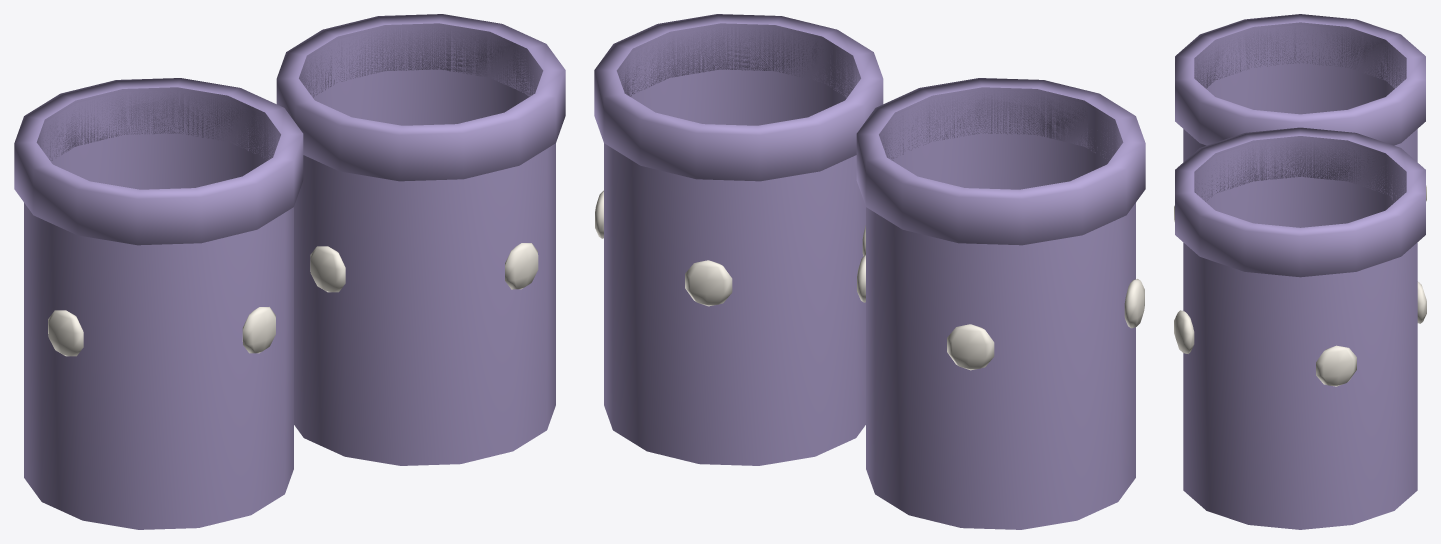
The model's file is dotted_knee_high_socks.glb.
3 views of the same model, side by side, from view 1: azimuth 30°, elevation 25°; view 2: azimuth 150°, elevation 25°; view 3: azimuth 270°, elevation 25° (orthographic). The views are drawn at different scales.
Visible parts, largest first — view 1: dotted_knee_high_socks_LegL, dotted_knee_high_socks_LegR; view 2: dotted_knee_high_socks_LegL, dotted_knee_high_socks_LegR; view 3: dotted_knee_high_socks_LegR, dotted_knee_high_socks_LegL.
Boxes of the visible parts, x1,y1,x2,y2 form: dotted_knee_high_socks_LegL: [14, 78, 303, 529]; dotted_knee_high_socks_LegR: [276, 14, 565, 465]; dotted_knee_high_socks_LegL: [856, 78, 1145, 529]; dotted_knee_high_socks_LegR: [594, 14, 883, 465]; dotted_knee_high_socks_LegR: [1174, 127, 1426, 529]; dotted_knee_high_socks_LegL: [1174, 14, 1426, 221].
Bounding box in the file's own units: 0.372 × 0.232 × 0.1789.
